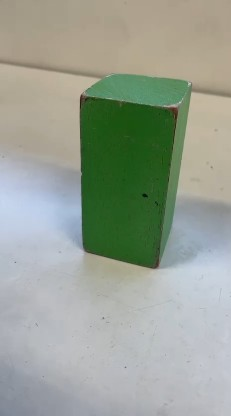green: (69, 76, 174, 261)
